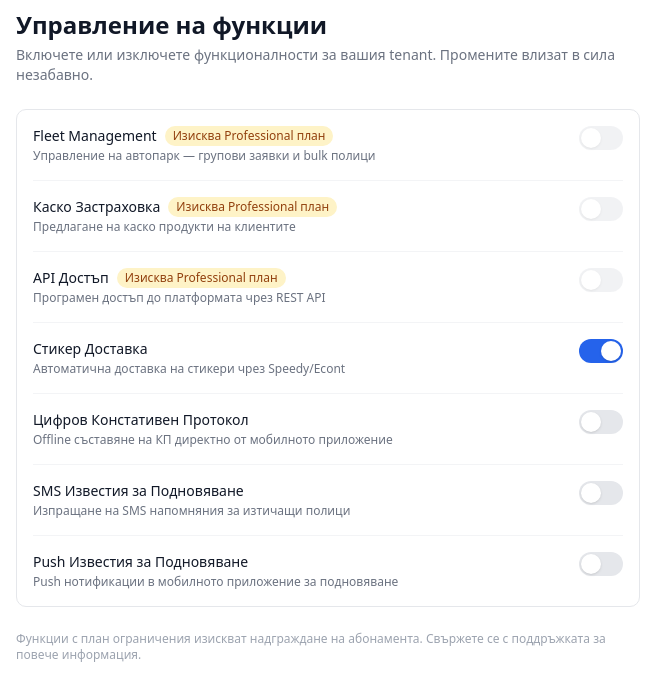
FeatureFlagsPage › shows error state when PATCH returns 403
The width and height of the screenshot is (657, 699).
// Try clicking a non-plan-restricted toggle to trigger the error
Click the switch named "SMS Известия за Подновяване": (601, 493) top-left (579, 481), bottom-right (623, 505)
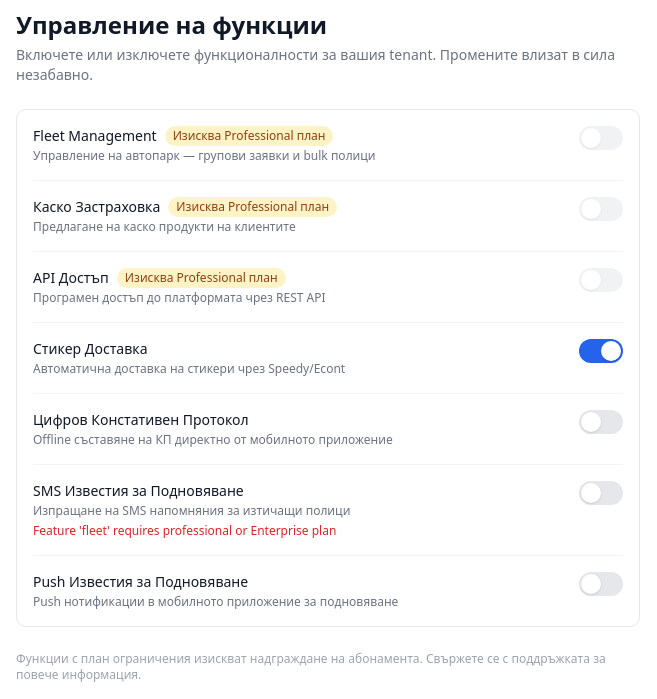
Now the text "Feature 'fleet' requires professional or Enterprise plan" is shown, box top-left (33, 522), bottom-right (336, 539)
